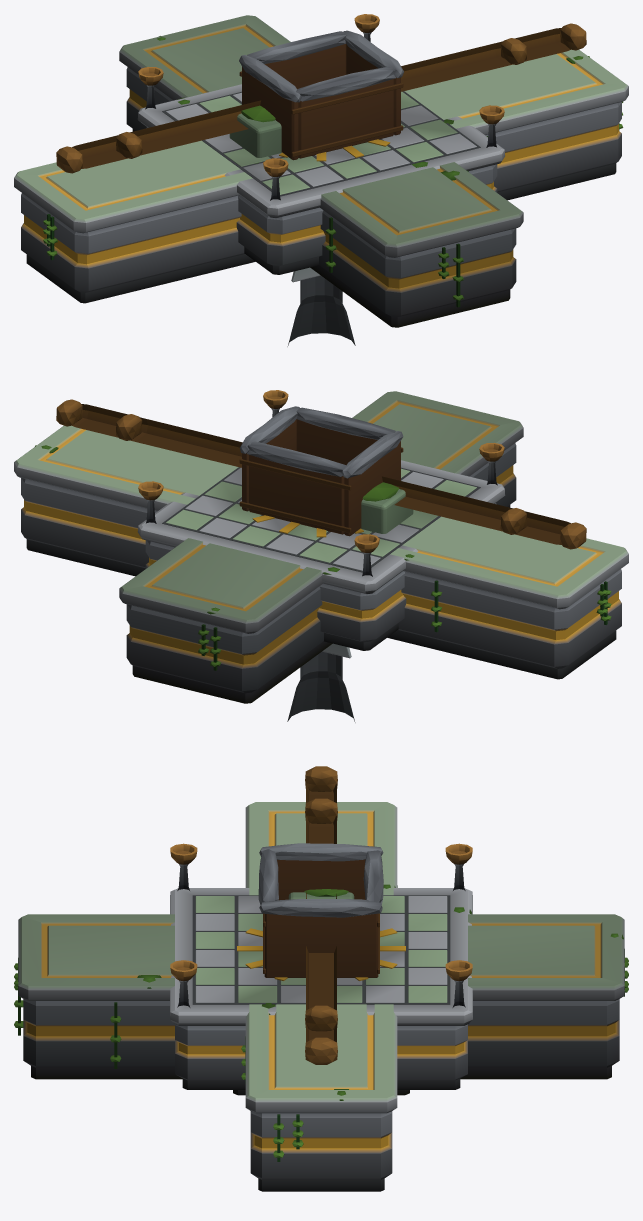
File: temple-1-C7HCVsPJ.glb
The picture shows the model from 3 angles, top to bottom: view 1: azimuth 30°, elevation 25°; view 2: azimuth 150°, elevation 25°; view 3: azimuth 270°, elevation 25°; orthographic projection. The views are drawn at different scales.
Parts seen in each view (by area): view 1: block_28x2x6#0, block_7x2x24#0, pad_12x2x12#0, hopper_4x3#0, mount_12.7#0, support_0_round#0, boltPost_#0, mount_9.7#0; view 2: block_28x2x6#0, block_7x2x24#0, pad_12x2x12#0, hopper_4x3#0, mount_12.7#0, support_0_round#0, boltPost_#0, mount_9.7#0; view 3: block_7x2x24#0, pad_12x2x12#0, block_28x2x6#0, hopper_4x3#0, mount_12.7#0, mount_9.7#0.
Boxes of the visible parts, <box> form: block_28x2x6#0: <box>14,49,628,303</box>; block_7x2x24#0: <box>119,15,523,327</box>; pad_12x2x12#0: <box>137,14,505,274</box>; hopper_4x3#0: <box>239,30,403,160</box>; mount_12.7#0: <box>56,23,586,173</box>; support_0_round#0: <box>287,275,355,346</box>; boltPost_#0: <box>229,105,281,157</box>; mount_9.7#0: <box>116,38,526,158</box>; block_28x2x6#0: <box>14,425,628,679</box>; block_7x2x24#0: <box>119,391,523,703</box>; pad_12x2x12#0: <box>137,390,505,650</box>; hopper_4x3#0: <box>239,406,403,536</box>; mount_12.7#0: <box>56,399,586,549</box>; support_0_round#0: <box>287,651,355,722</box>; boltPost_#0: <box>361,482,413,533</box>; mount_9.7#0: <box>116,414,526,534</box>; block_7x2x24#0: <box>14,914,628,1079</box>; pad_12x2x12#0: <box>170,843,472,1089</box>; block_28x2x6#0: <box>241,802,397,1191</box>; hopper_4x3#0: <box>258,843,383,977</box>; mount_12.7#0: <box>305,766,337,1064</box>; mount_9.7#0: <box>305,798,337,1031</box>.
Bounding box in the file's own units: 28.34 × 13.87 × 24.34.
